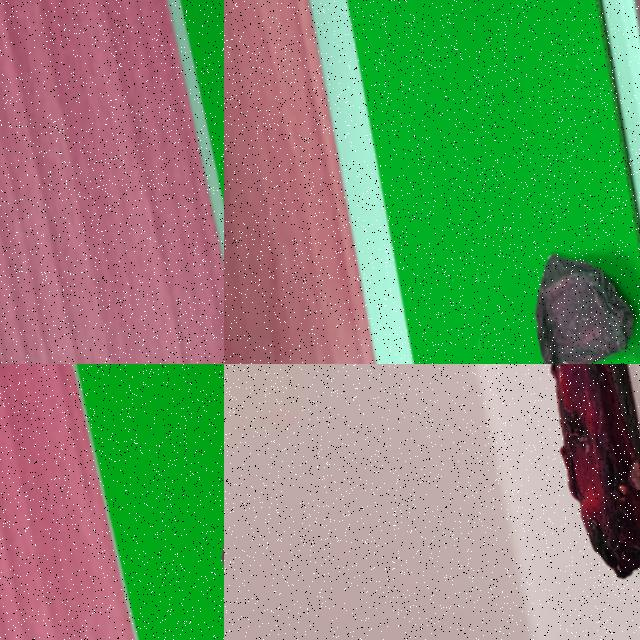Fine_cocoabeans: (114, 364, 223, 639)
Flat_cocoabeans: (453, 364, 639, 631), (473, 171, 639, 363)
